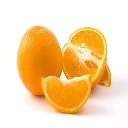orange: (17, 24, 64, 99), (40, 73, 93, 113)
